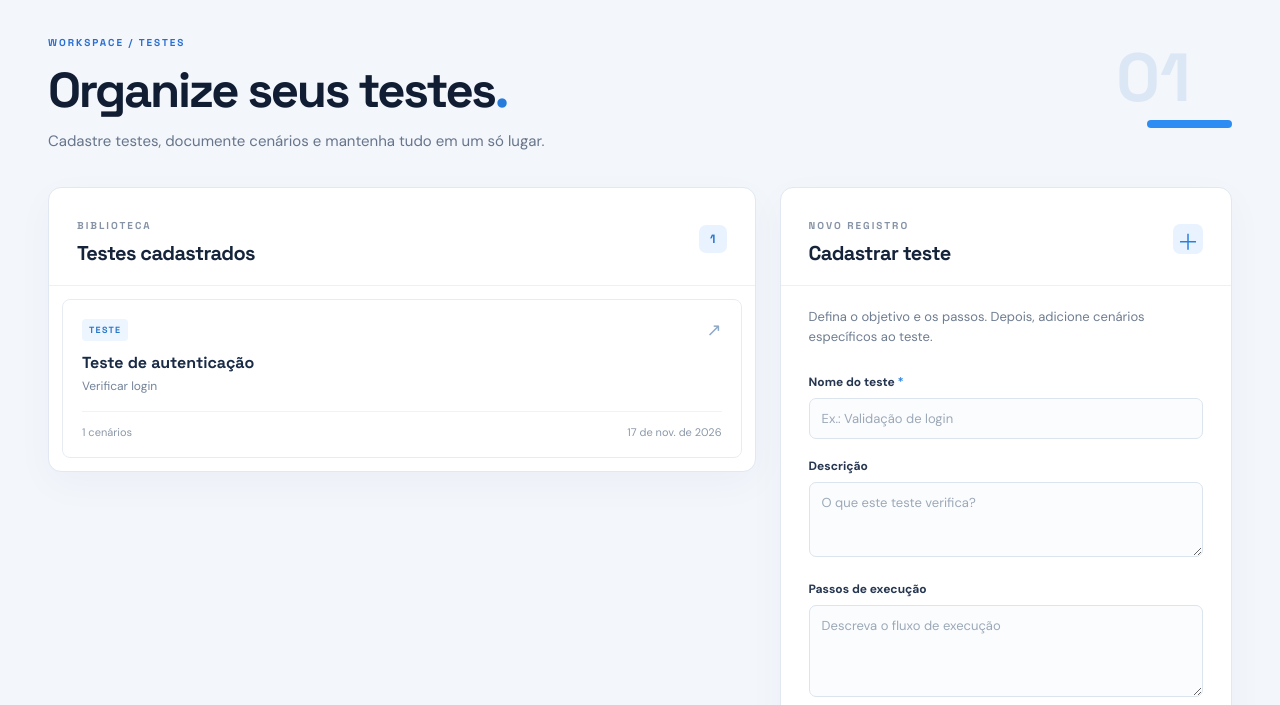
Test case: TES-55/56/61/62: execução manual e histórico › inicia a execução e apresenta os passos em sequência com acompanhamento
Click the button "Teste de autenticação" at (105, 330), box [62,299,742,458]
(page scrolled)
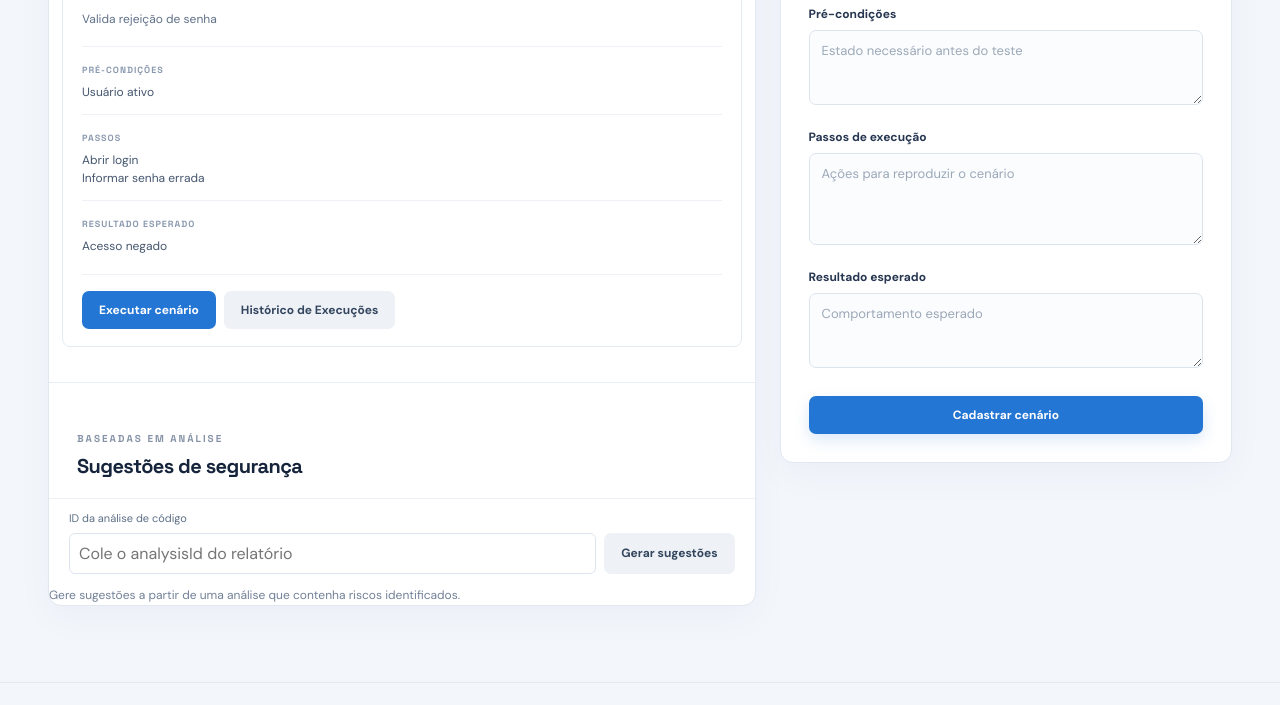
Click the button "Executar cenário" at (149, 310), box [82,291,216,329]
(page scrolled)
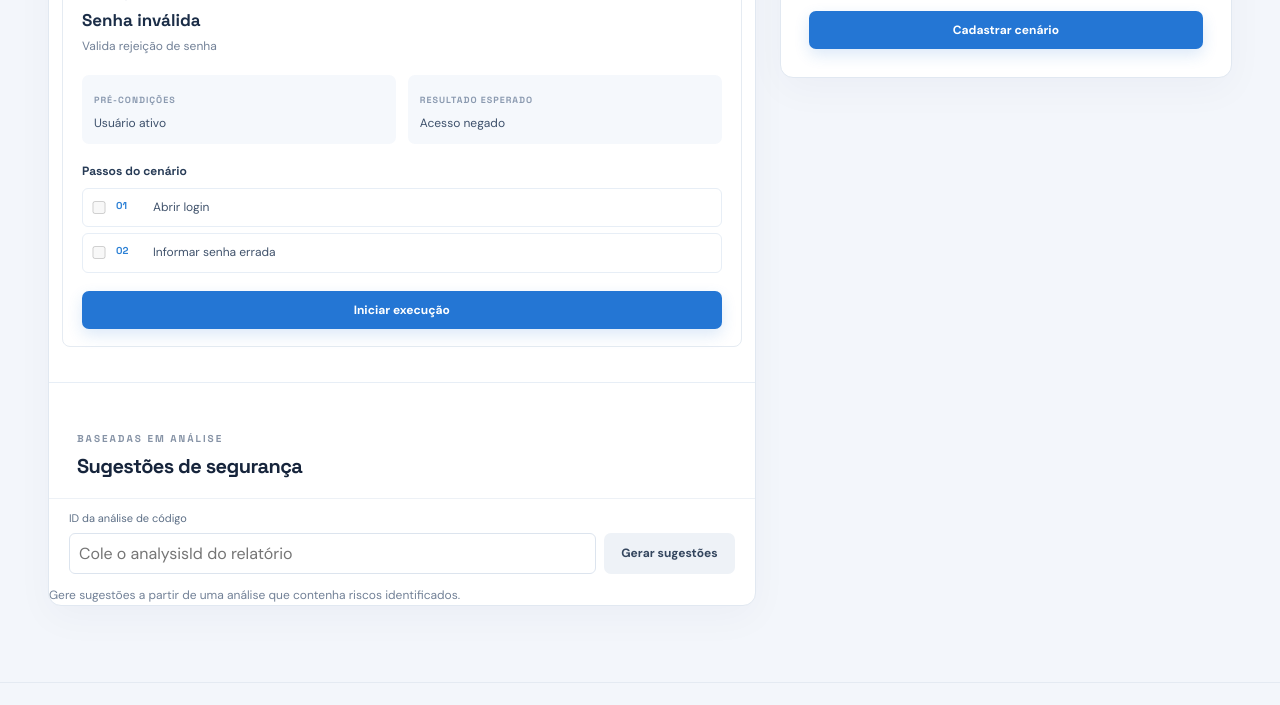
Click the button "Iniciar execução" at (402, 310), box [82,290,722,328]
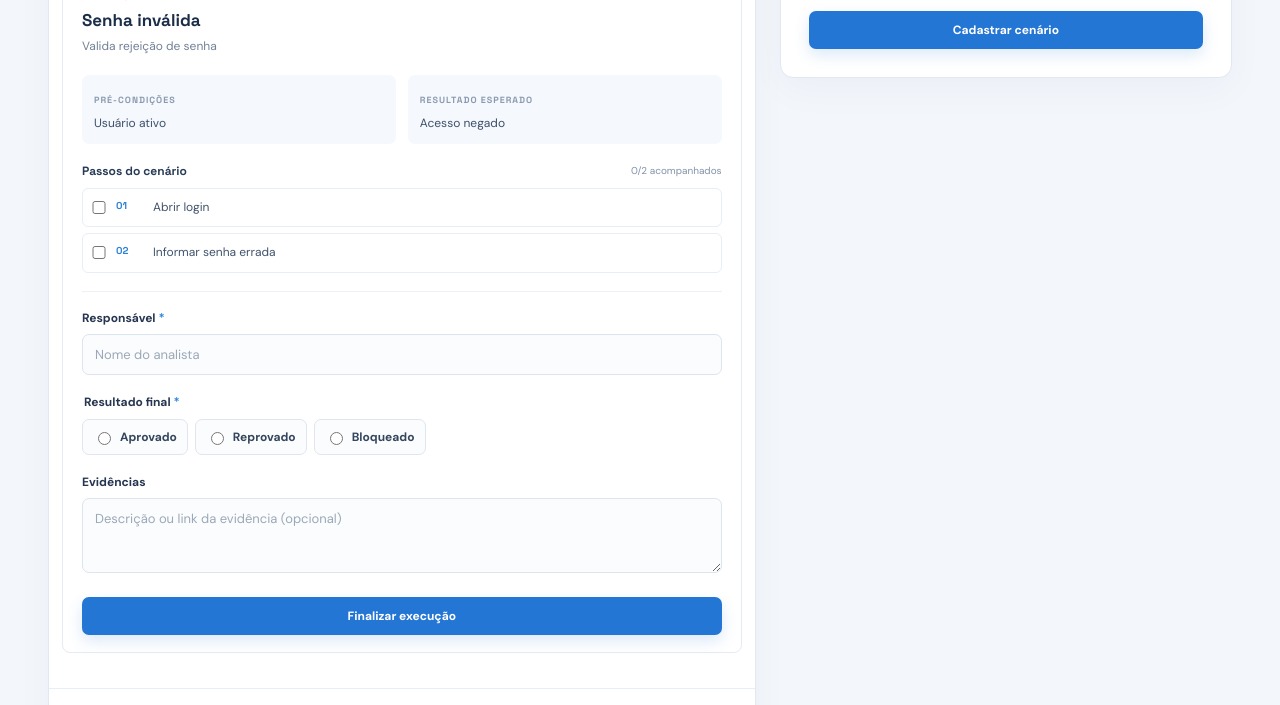
Expected: the text "Abrir login" is shown, [153,199,209,215]
Expected: the text "Informar senha errada" is shown, [153,244,276,260]
Expected: the text "Valida rejeição de senha" is shown 2 times
Click the checkbox labelled "01 Abrir login" at (99, 207), box [91,201,107,214]
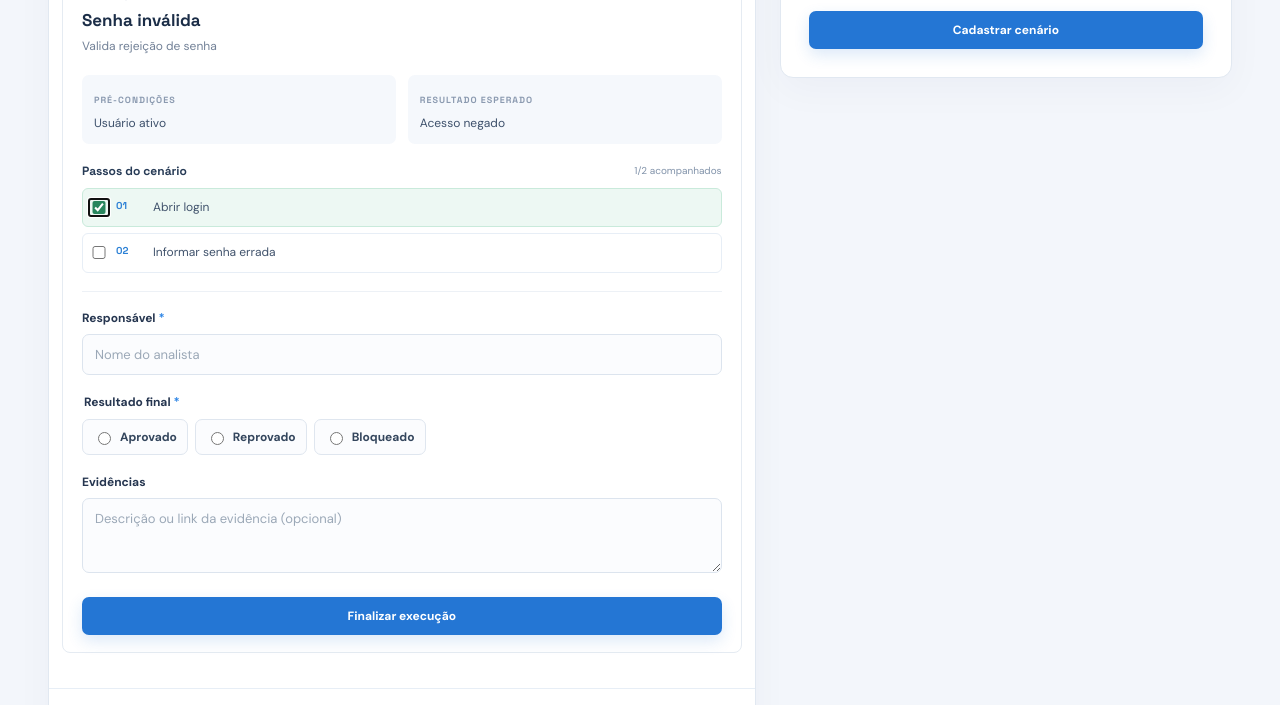
Expected: the text "1/2 acompanhados" is shown, [634,164,722,177]
